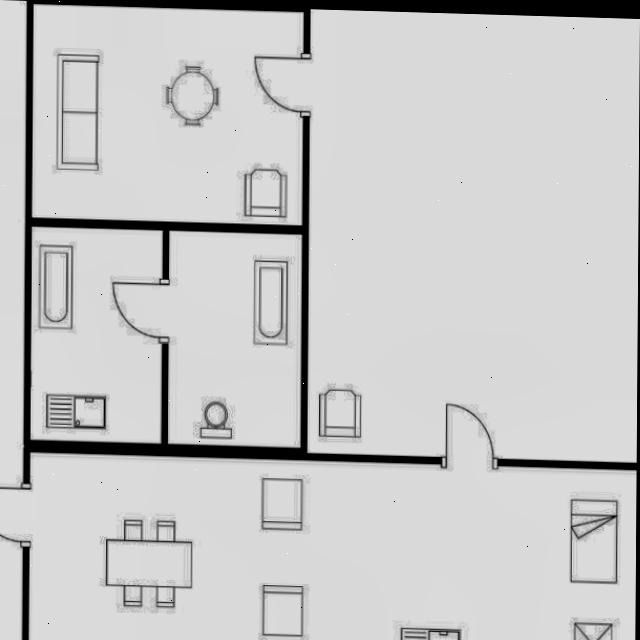room: (28, 452, 637, 640), (28, 6, 309, 224), (169, 231, 303, 447), (30, 229, 163, 443)
